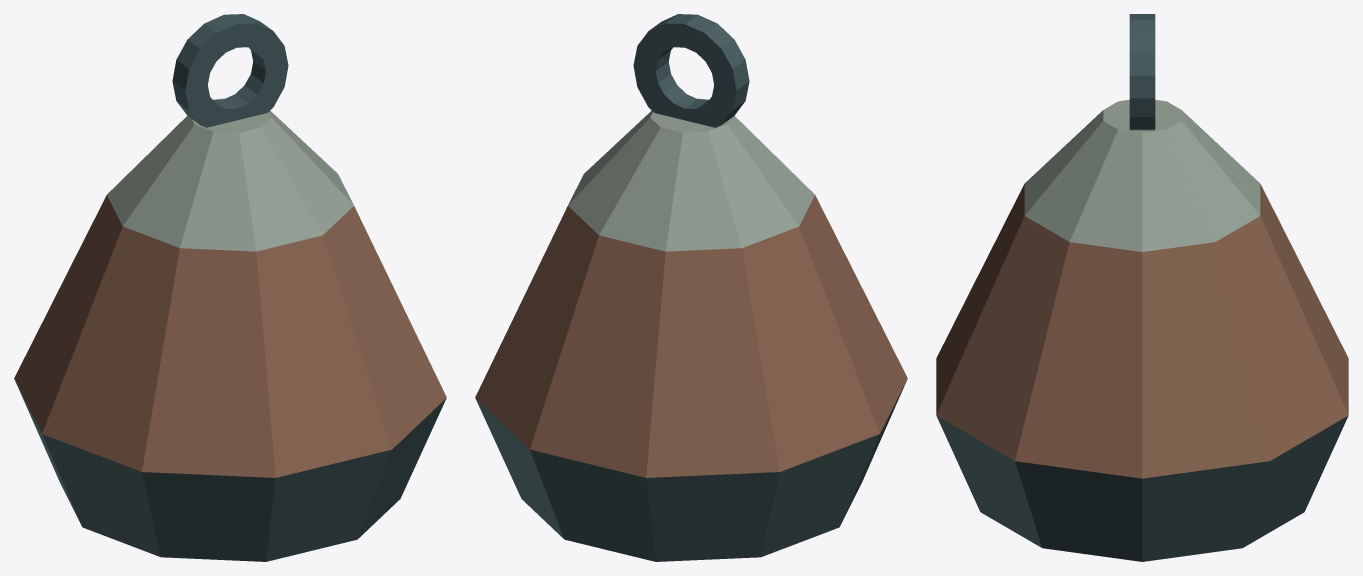
Rendered from buoy.glb.
The picture shows the model from 3 angles, left to right: view 1: azimuth 30°, elevation 25°; view 2: azimuth 150°, elevation 25°; view 3: azimuth 270°, elevation 25°; orthographic projection.
Visible parts, largest first — view 1: buoy__body; view 2: buoy__body; view 3: buoy__body.
Boxes of the visible parts, x1,y1,x2,y2 form: buoy__body: (14,14,446,561); buoy__body: (475,14,907,561); buoy__body: (936,14,1348,561).
Size of the model in its own units: 0.84 by 1 by 0.7989.
